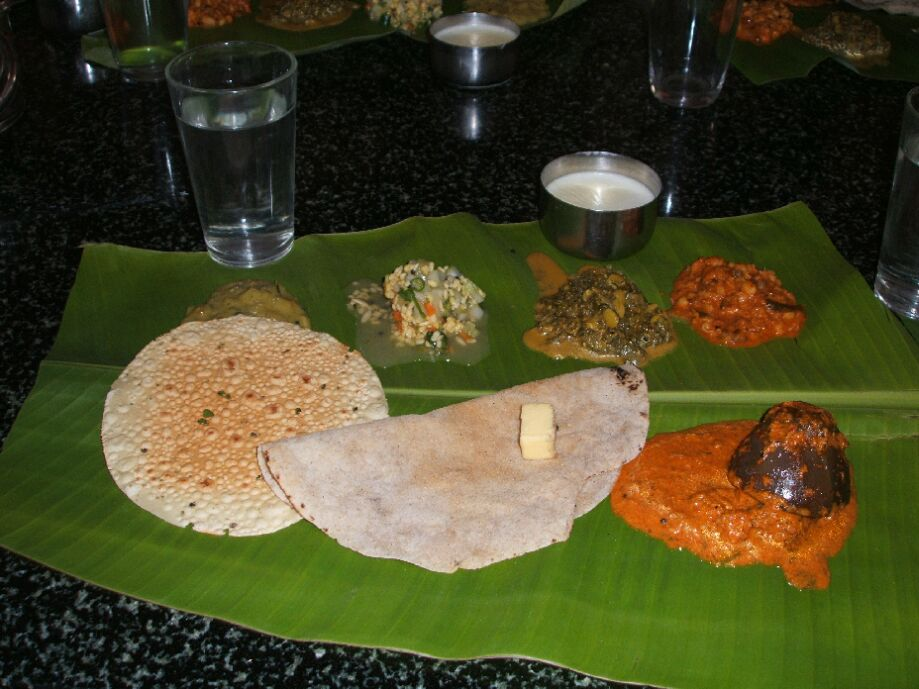glass of milk: (550, 144, 655, 258)
glass of water: (176, 60, 311, 264)
